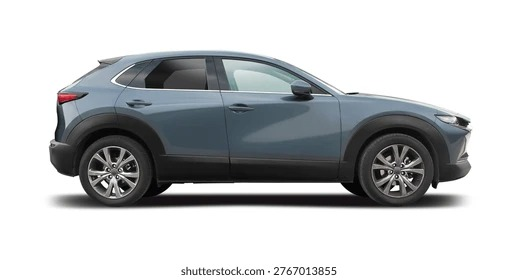car: (48, 46, 479, 206), (37, 52, 465, 200)
